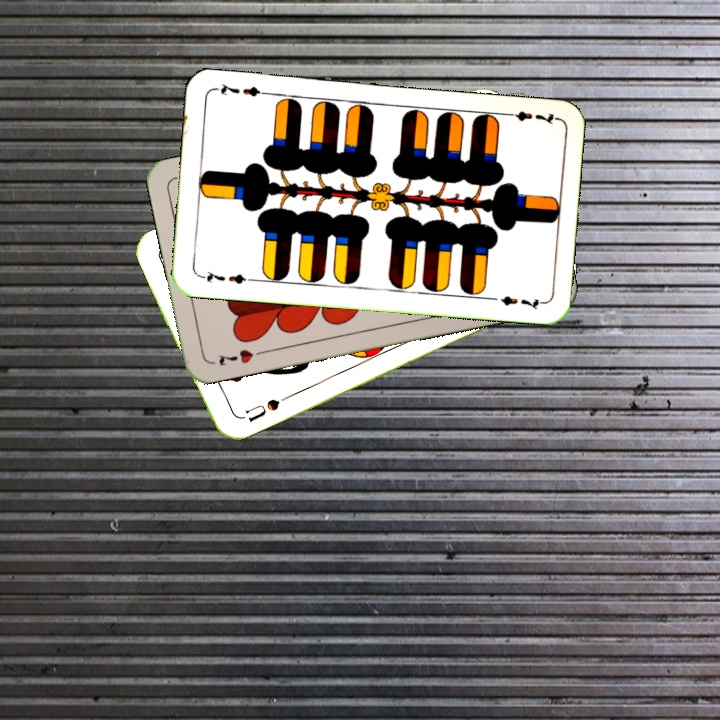E7: (500, 106, 559, 127), (196, 267, 255, 286)
H7: (215, 345, 268, 369)
SU: (234, 394, 282, 425)
